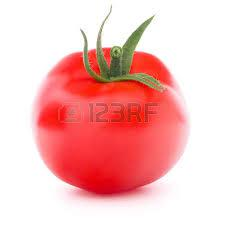tomato: (28, 48, 188, 195)
